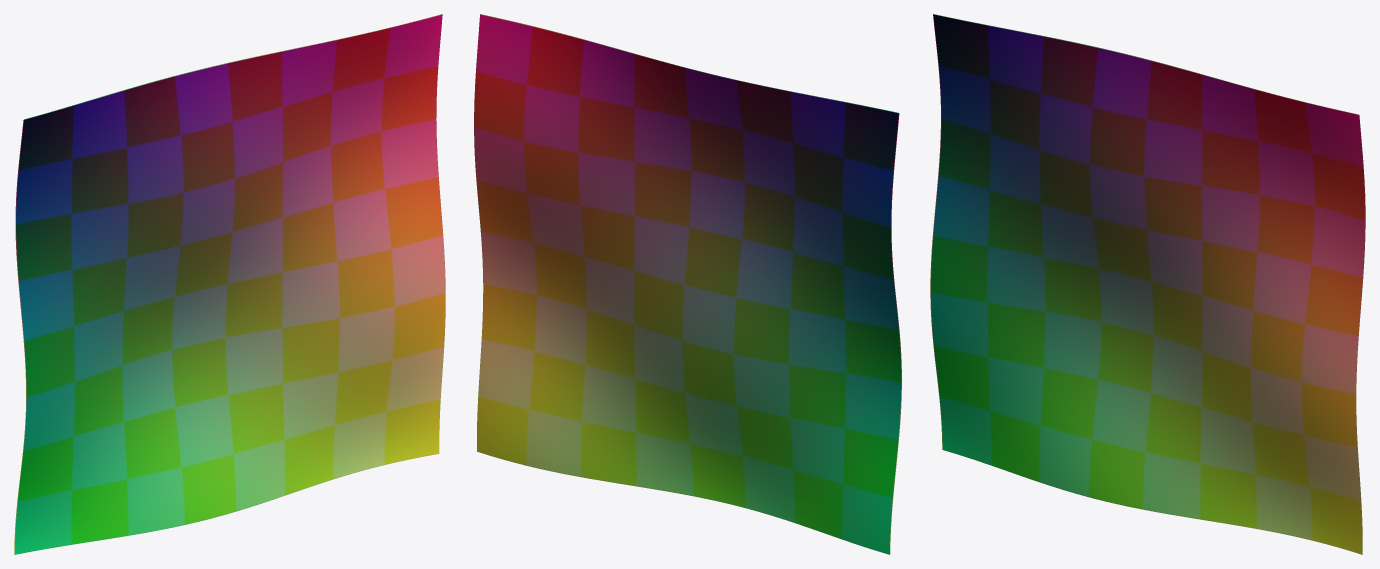
Rendered from Tile_+003_+000.obj.
3 views of the same model, side by side, from view 1: azimuth 30°, elevation 25°; view 2: azimuth 150°, elevation 25°; view 3: azimuth 330°, elevation 25° (orthographic).
Bounding box in the file's own units: 100 × 100 × 5.93.
